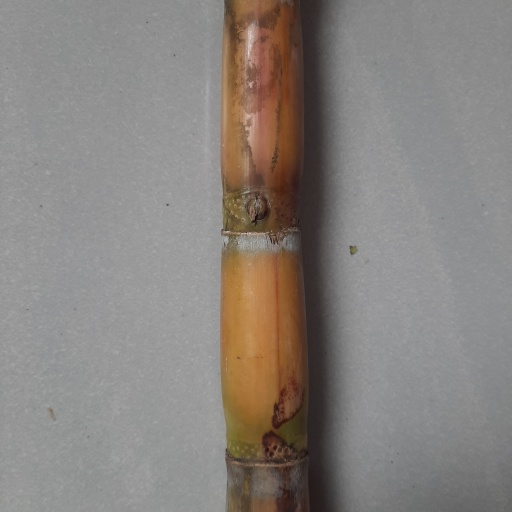Bud: (244, 194, 270, 228)
